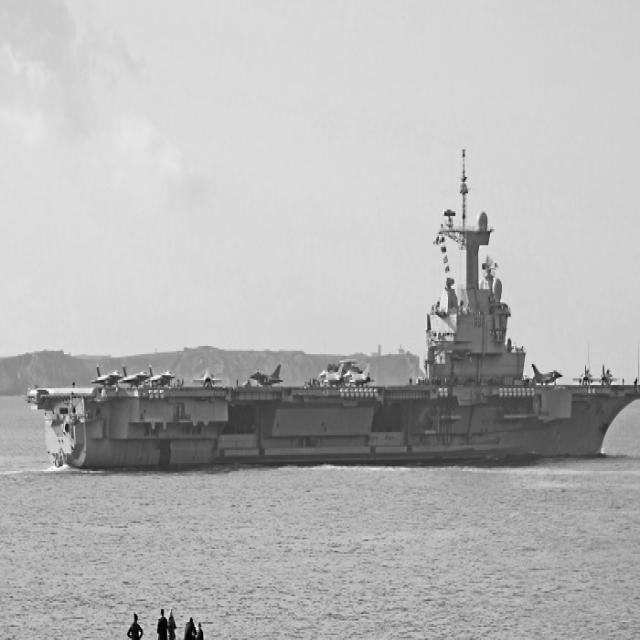Portanaves: (27, 140, 640, 478)
